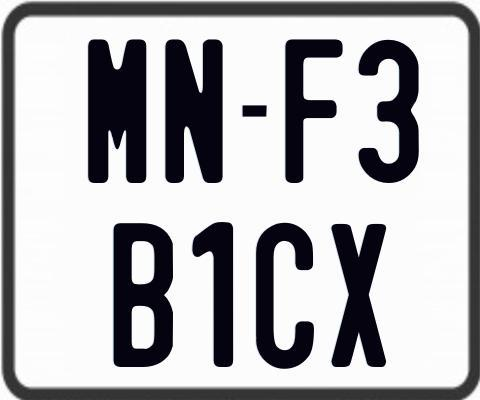1: (190, 220, 234, 366)
3: (359, 40, 423, 189)
B: (114, 223, 178, 369)
C: (253, 220, 314, 372)
F: (284, 38, 344, 187)
M: (88, 39, 151, 183)
N: (163, 37, 227, 184)
X: (330, 223, 388, 372)
